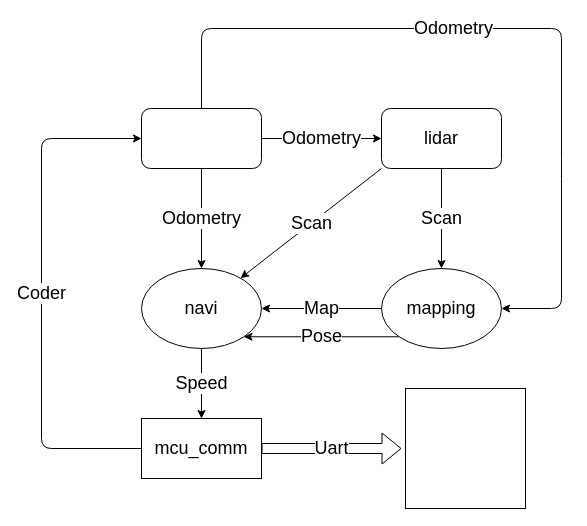
This 587x526 diagram has some shape labels left out. The shapes that lost their labels are listed below. From the top down, each one's centre as x and y in pixels, then its label:
At (201,138): "imu".
At (465,448): "motion driver board".
